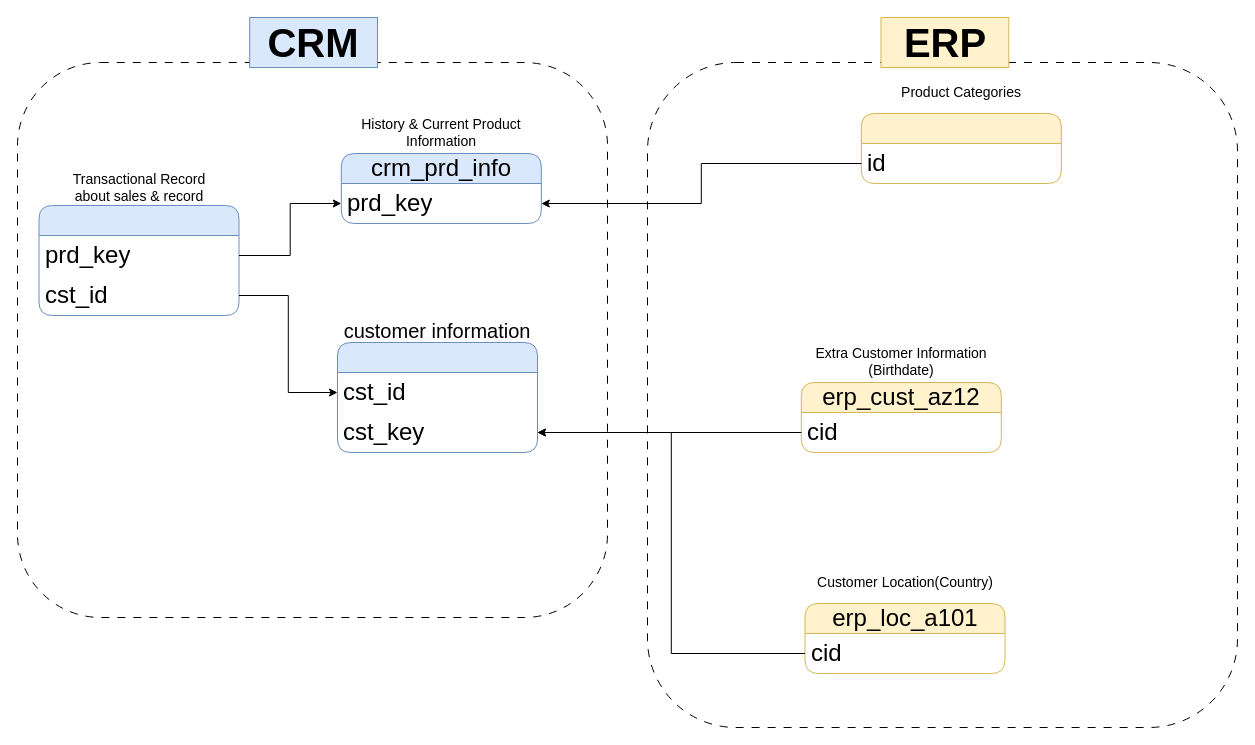
Image size: 1255x745. Some labels were removed from this diagram. Here are the shapes that lost their labels. From the top down, the box of each, then its label:
(860, 112, 1061, 184): erp_px_cat_g1v2
(38, 204, 239, 316): crm_sales_details
(336, 342, 538, 452): crm_cust_info
